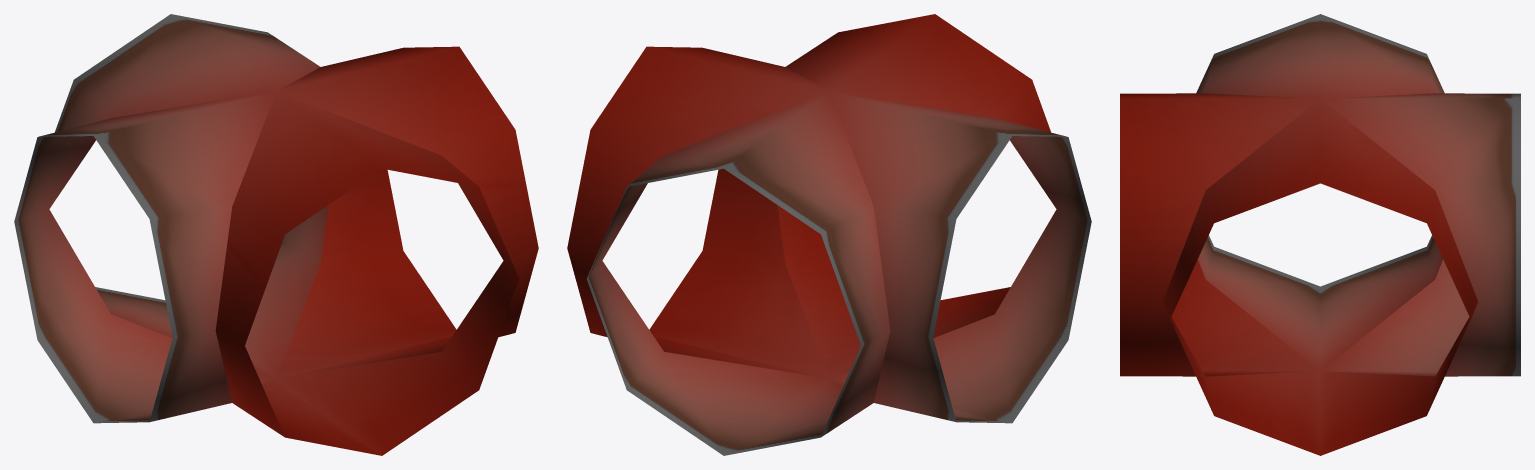
File: pipe01_junction_4way_low.fbx
The picture shows the model from 3 angles, left to right: view 1: azimuth 30°, elevation 25°; view 2: azimuth 150°, elevation 25°; view 3: azimuth 270°, elevation 25°; orthographic projection. The views are drawn at different scales.
Parts seen in each view (by area): view 1: pipe01_junction_4way_low; view 2: pipe01_junction_4way_low; view 3: pipe01_junction_4way_low.
Boxes of the visible parts, x1,y1,x2,y2 form: pipe01_junction_4way_low: (14,14,538,455); pipe01_junction_4way_low: (567,14,1091,455); pipe01_junction_4way_low: (1120,14,1520,455).
Bounding box in the file's own units: 16 × 12 × 16.
